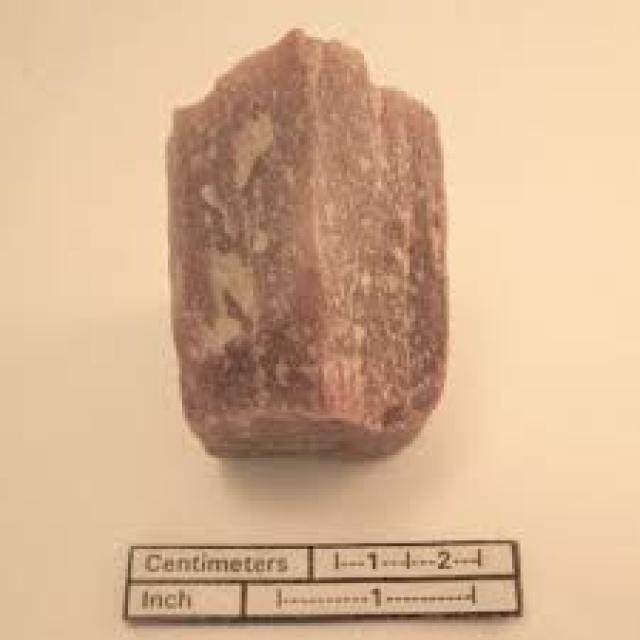Metamorphic: (165, 32, 455, 450)
